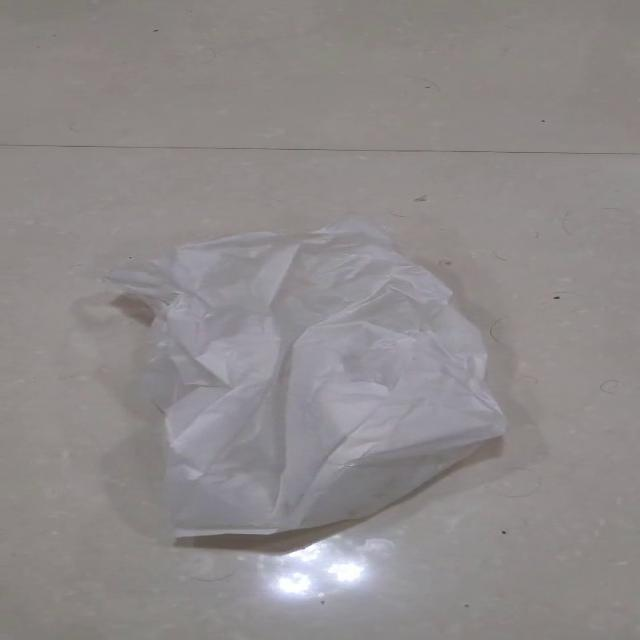plastic: (96, 215, 508, 540)
